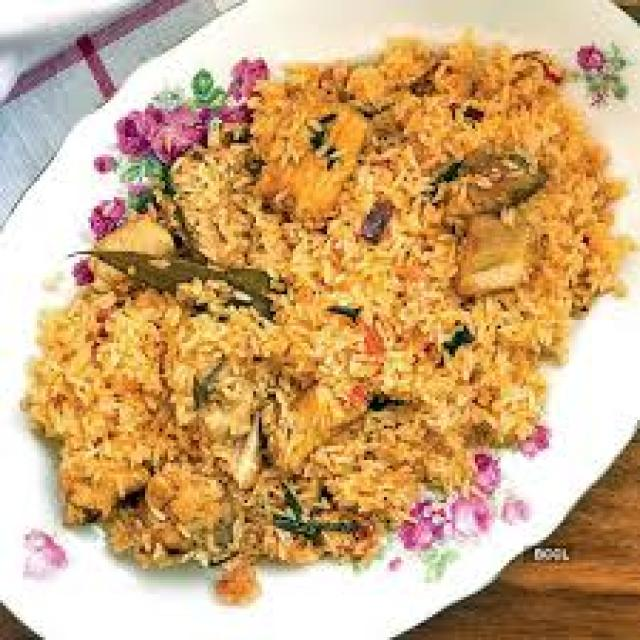Wet Waste: (33, 37, 630, 594)
